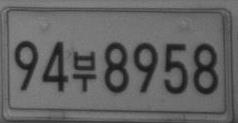4: (41, 40, 69, 92)
5: (163, 43, 188, 94)
8: (102, 40, 129, 93), (192, 42, 219, 95)
9: (132, 42, 158, 92), (13, 39, 38, 90)
부: (71, 50, 96, 92)
